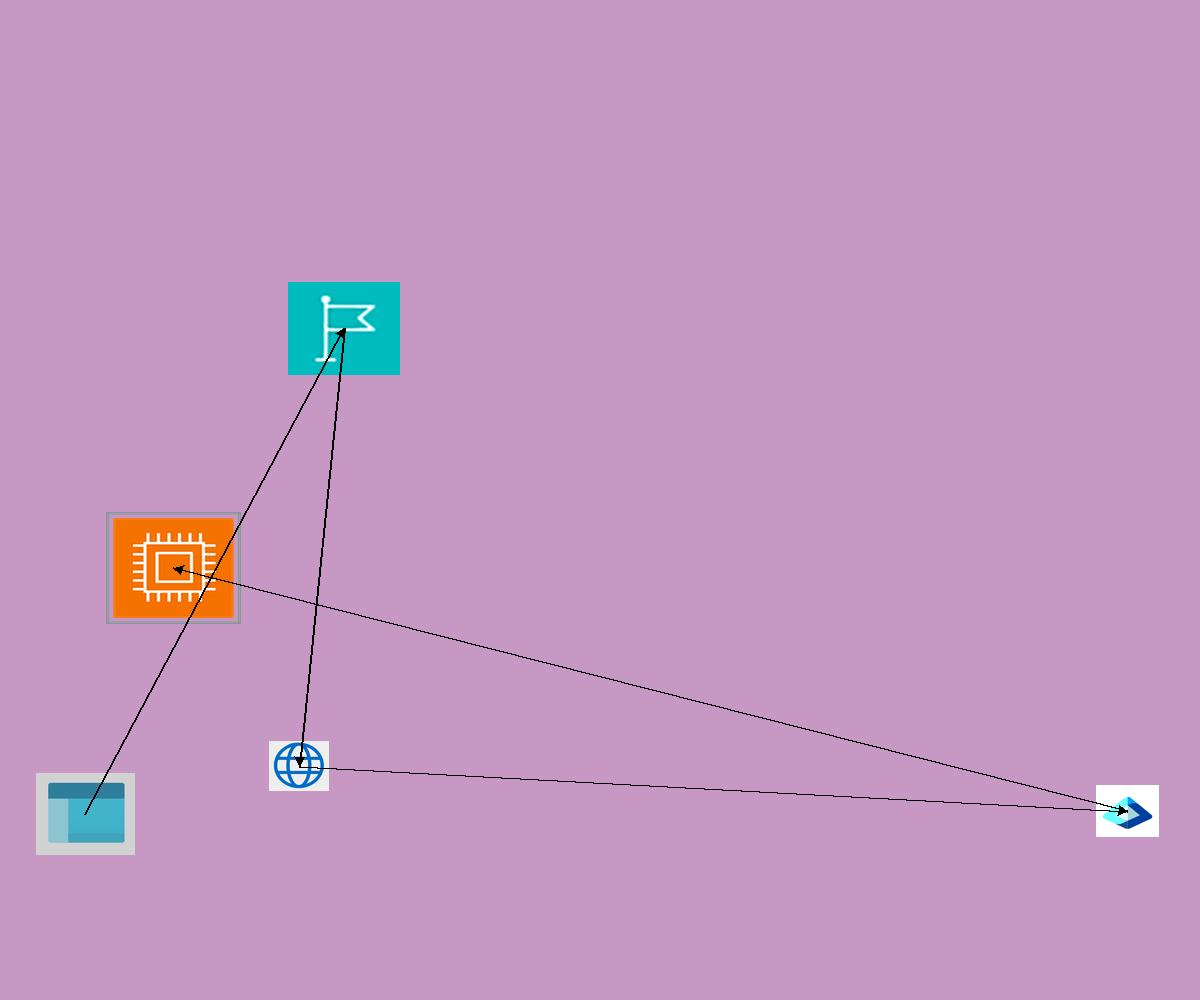AWS-Category_Compute: (106, 512, 241, 624)
AWS-Region: (288, 282, 400, 375)
Azure_http: (269, 741, 329, 791)
Azure_management-portal: (36, 773, 135, 855)
Azure_microsoft_entra: (1096, 785, 1159, 837)
